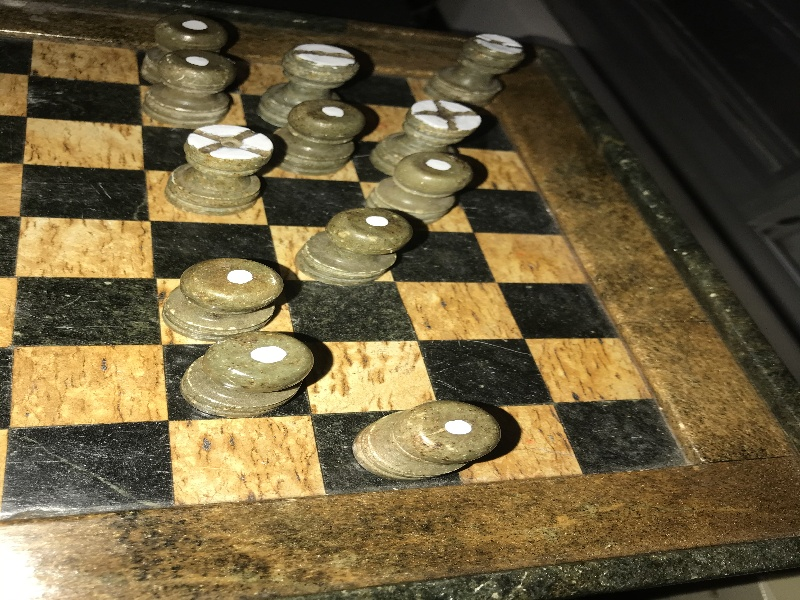WhiteBishop: (166, 124, 273, 215), (372, 100, 481, 175)
WhitePawn: (352, 401, 501, 480), (181, 331, 314, 417), (161, 259, 283, 341), (297, 206, 412, 284), (369, 152, 472, 225), (271, 100, 364, 172), (144, 50, 232, 125), (144, 13, 228, 81)
WhiteRook: (259, 44, 361, 125), (426, 34, 523, 106)
